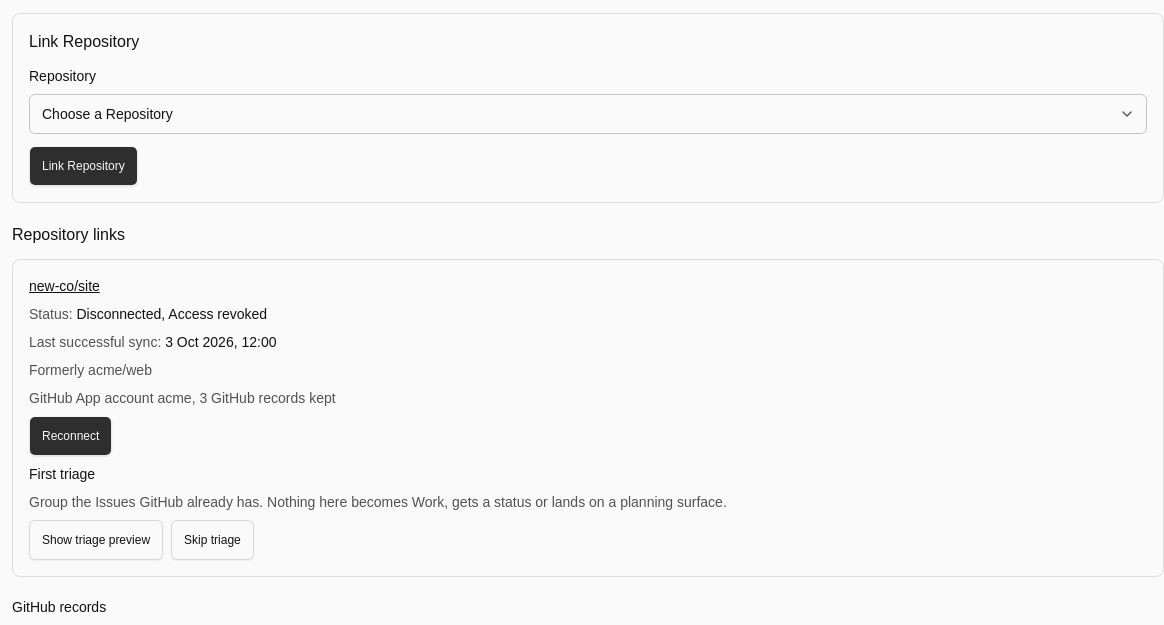
it: shows a refusal as an alert
(page scrolled)
Click the button "Reconnect".
click(71, 436)  # box [29, 416, 112, 456]
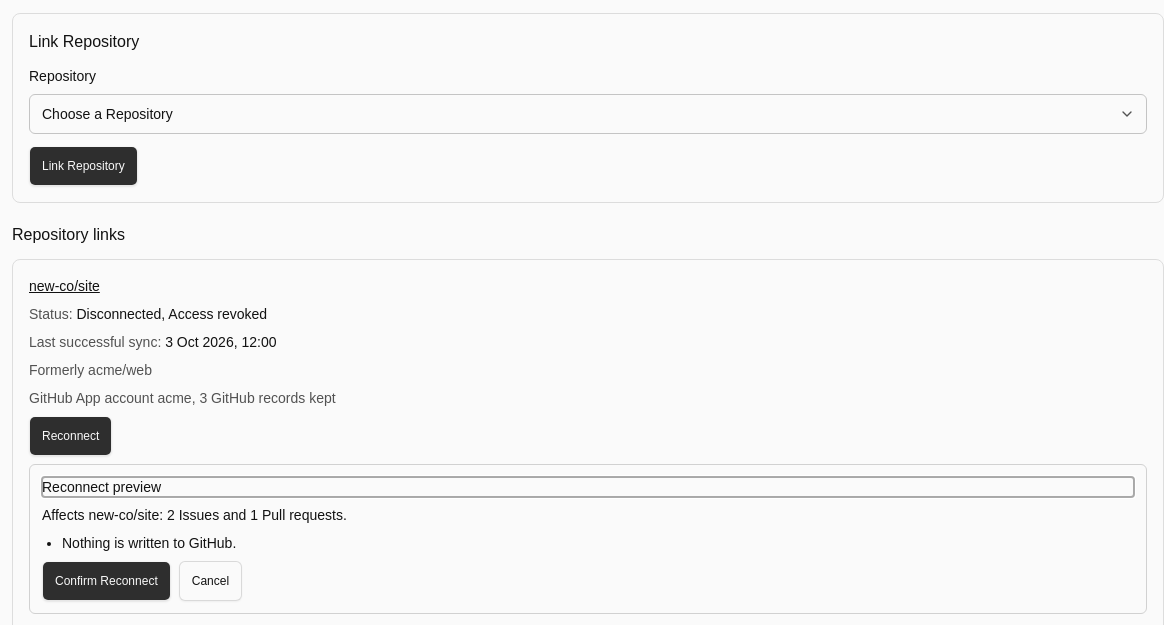
Click the button "Confirm Reconnect".
click(106, 581)  # box [42, 561, 171, 601]
(page scrolled)
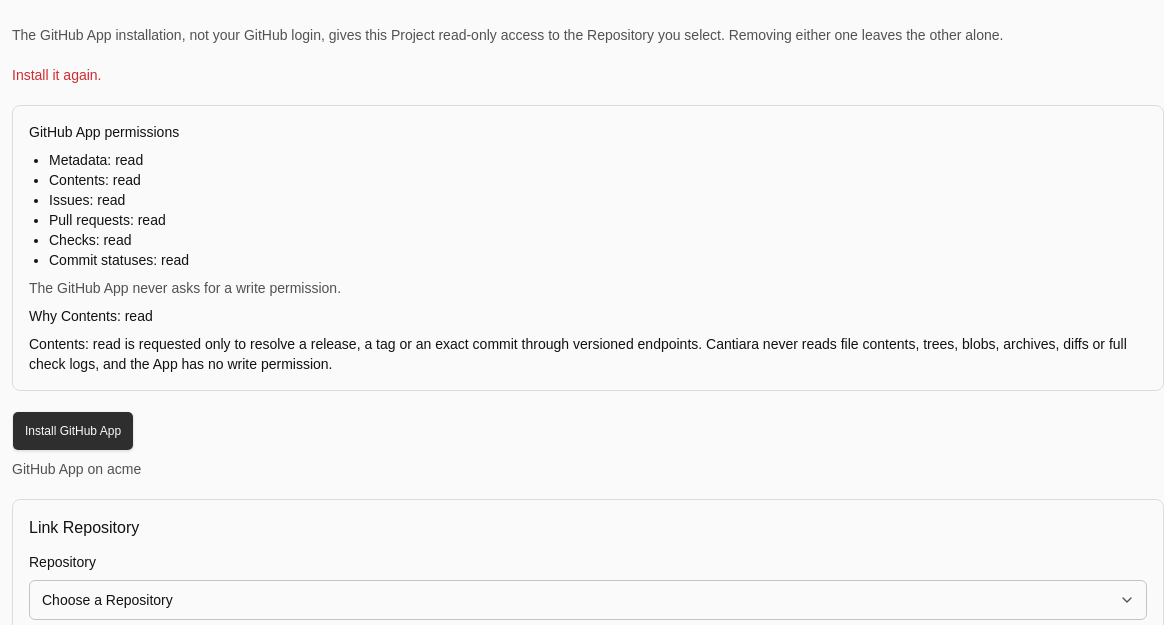
Expected: the message "Install it again." is shown, [12, 67, 102, 83]
